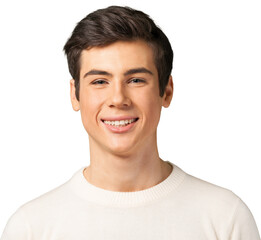teen: (63, 8, 179, 155)
